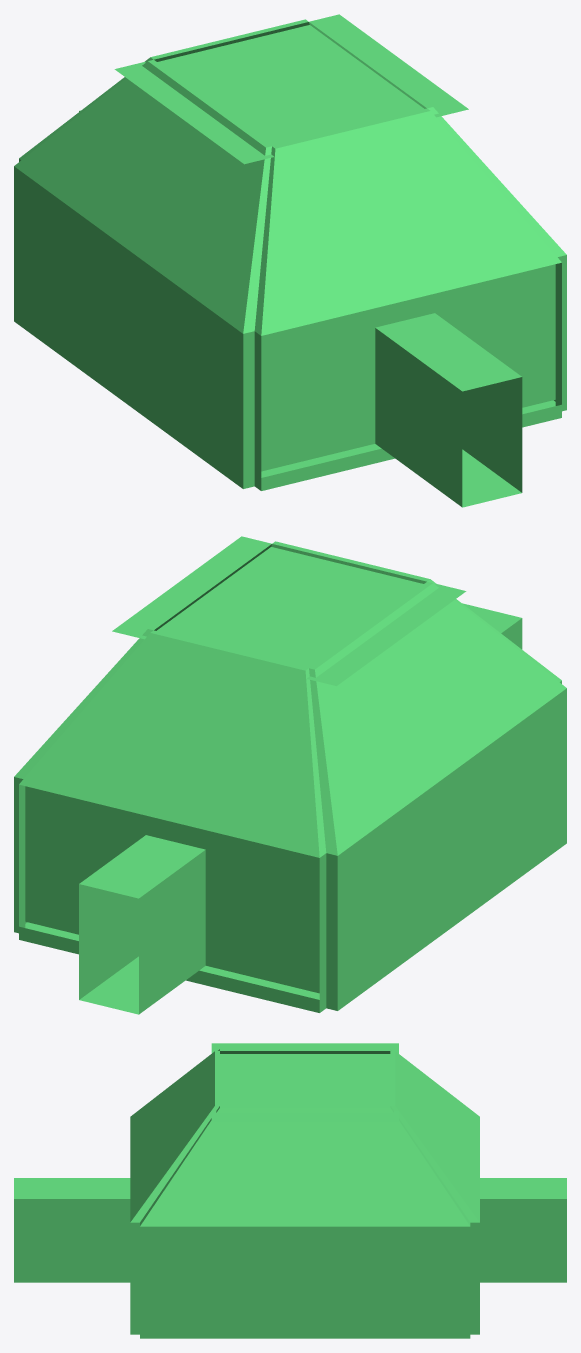
The model's file is Room.fbx.
The picture shows the model from 3 angles, top to bottom: view 1: azimuth 30°, elevation 25°; view 2: azimuth 150°, elevation 25°; view 3: azimuth 270°, elevation 25°; orthographic projection. The views are drawn at different scales.
Parts seen in each view (by area): view 1: COOMROOM, Ceiling, Entrance; view 2: COOMROOM, Ceiling, Exit; view 3: COOMROOM, Ceiling.
Boxes of the visible parts, bbox=[...] form: COOMROOM: bbox=[14, 19, 566, 506]; Ceiling: bbox=[114, 14, 468, 164]; Entrance: bbox=[462, 449, 521, 507]; COOMROOM: bbox=[14, 541, 566, 1014]; Ceiling: bbox=[112, 536, 466, 686]; Exit: bbox=[79, 956, 138, 1014]; COOMROOM: bbox=[14, 1049, 566, 1338]; Ceiling: bbox=[211, 1043, 398, 1122].
Bounding box in the file's own units: 1127 × 937 × 2312.
